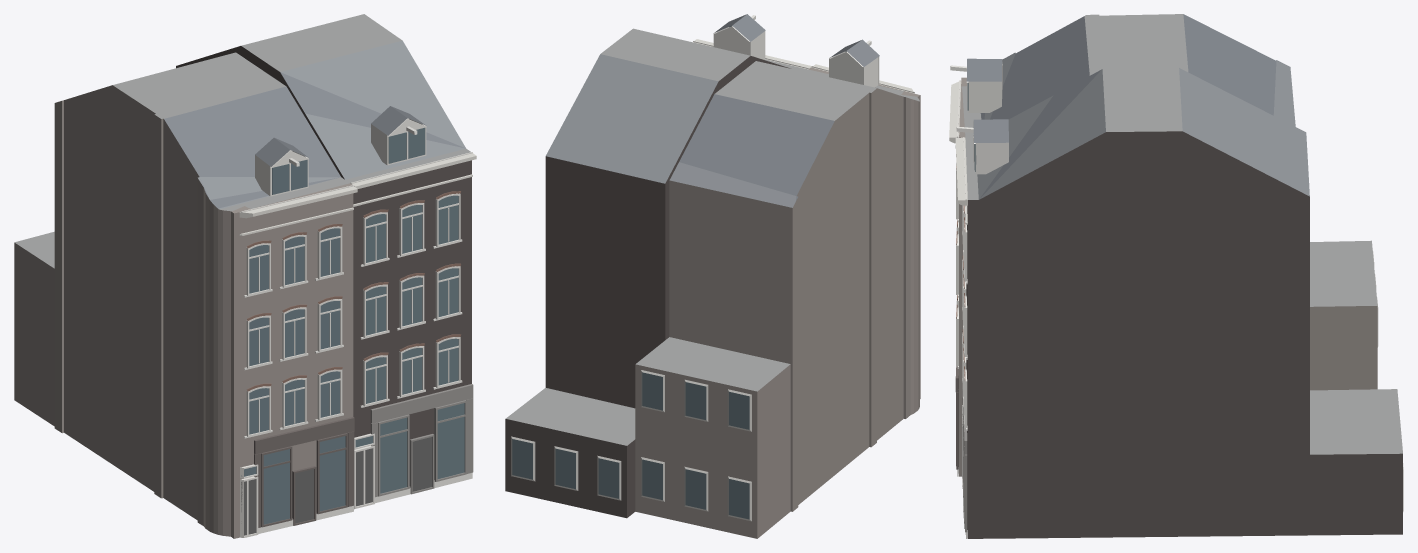
The model's file is chunk-face-wou-74-92-r1.glb.
The picture shows the model from 3 angles, left to right: view 1: azimuth 30°, elevation 25°; view 2: azimuth 150°, elevation 25°; view 3: azimuth 270°, elevation 25°; orthographic projection. The views are drawn at different scales.
Visible parts, largest first — view 1: face-wou-74-92-r1; view 2: face-wou-74-92-r1; view 3: face-wou-74-92-r1.
Boxes of the visible parts, x1=… form: face-wou-74-92-r1: x1=14, y1=14, x2=476, y2=538; face-wou-74-92-r1: x1=505, y1=14, x2=920, y2=538; face-wou-74-92-r1: x1=949, y1=14, x2=1403, y2=538.
Size of the model in its own units: 12.83 by 18.1 by 18.4.
